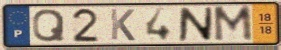2: (70, 6, 101, 44)
4: (144, 7, 174, 43)
K: (108, 8, 137, 42)
M: (212, 5, 255, 44)
N: (177, 6, 215, 42)
Q: (31, 8, 67, 43)
